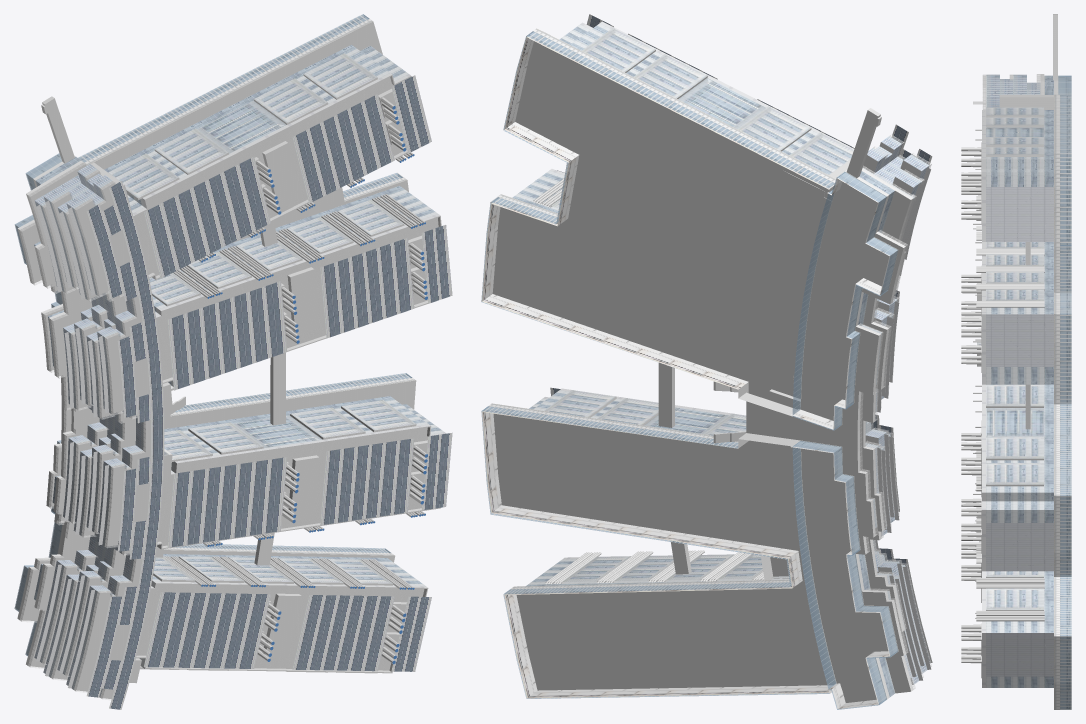
The picture shows the model from 3 angles, left to right: view 1: azimuth 30°, elevation 25°; view 2: azimuth 150°, elevation 25°; view 3: azimuth 270°, elevation 25°; orthographic projection. The views are drawn at different scales.
Visible parts, largest first — view 1: 右侧AB底座, 左侧A栋.002, 左侧C栋.001, 左侧B栋.001, 左侧A栋.001, 左侧AB底座.003, 左侧右连廊, 左侧左连廊.003; view 2: 左侧AB底座.003, 右侧AB底座, 左侧A栋.002, 左侧A栋.001, 左侧B栋.001, 左侧右连廊, 左侧C栋.001, 左侧左连廊.003; view 3: 左侧B栋.001, 左侧C栋.001, 左侧AB底座.003, 左侧A栋.002, 左侧A栋.001, 右侧AB底座, 左侧右连廊, 左侧左连廊.003.
Part boxes in pixels (bbox=[...]): 右侧AB底座: bbox=[14, 153, 185, 709]; 左侧A栋.002: bbox=[104, 45, 431, 279]; 左侧C栋.001: bbox=[149, 186, 452, 390]; 左侧B栋.001: bbox=[157, 396, 452, 549]; 左侧A栋.001: bbox=[136, 554, 431, 673]; 左侧AB底座.003: bbox=[78, 14, 416, 562]; 左侧右连廊: bbox=[254, 221, 285, 565]; 左侧左连廊.003: bbox=[41, 96, 74, 163]; 左侧AB底座.003: bbox=[481, 28, 836, 698]; 右侧AB底座: bbox=[713, 124, 932, 709]; 左侧A栋.002: bbox=[559, 14, 854, 175]; 左侧A栋.001: bbox=[526, 550, 790, 586]; 左侧B栋.001: bbox=[529, 387, 746, 435]; 左侧右连廊: bbox=[658, 362, 691, 574]; 左侧C栋.001: bbox=[512, 169, 566, 213]; 左侧左连廊.003: bbox=[846, 108, 881, 178]; 左侧B栋.001: bbox=[961, 384, 1053, 571]; 左侧C栋.001: bbox=[961, 231, 1053, 384]; 左侧AB底座.003: bbox=[1054, 94, 1071, 709]; 左侧A栋.002: bbox=[961, 107, 1053, 241]; 左侧A栋.001: bbox=[961, 483, 1053, 687]; 右侧AB底座: bbox=[973, 74, 1071, 518]; 左侧右连廊: bbox=[1025, 242, 1030, 429]; 左侧左连廊.003: bbox=[1053, 14, 1057, 80].
Bounding box in the file's own units: 81.88 × 125 × 22.49.
17 materials, 16 textured.
